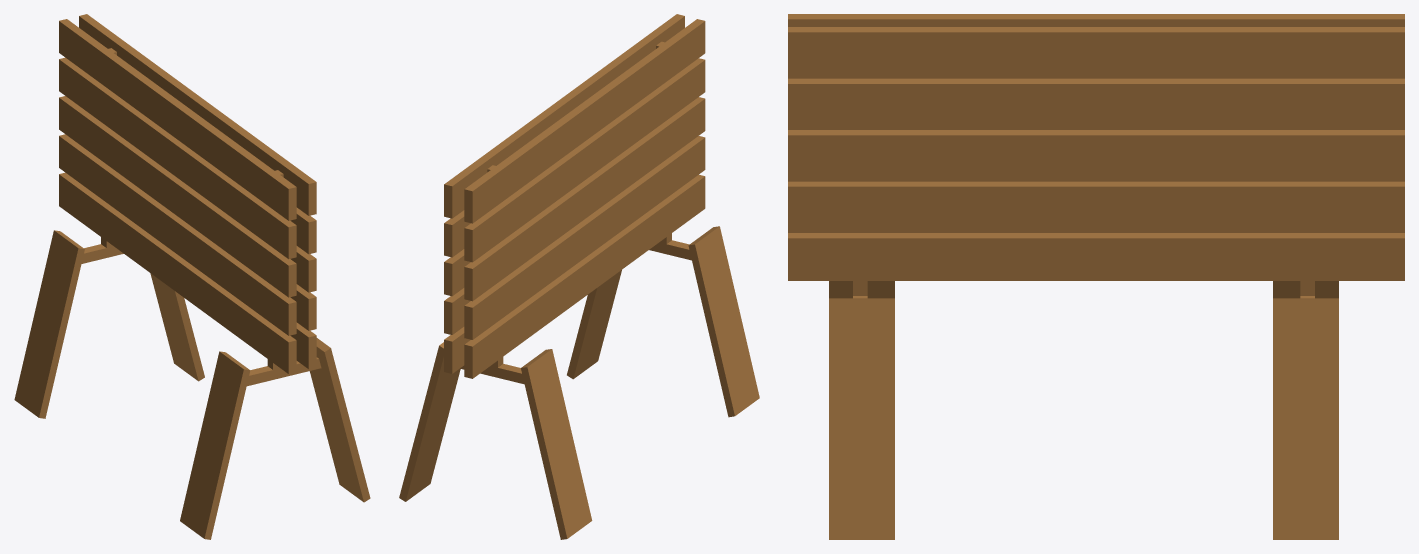
Rendered from BarracadeWood.fbx.
The picture shows the model from 3 angles, left to right: view 1: azimuth 30°, elevation 25°; view 2: azimuth 150°, elevation 25°; view 3: azimuth 270°, elevation 25°; orthographic projection. The views are drawn at different scales.
Parts seen in each view (by area): view 1: BarracadeWood; view 2: BarracadeWood; view 3: BarracadeWood.
Part boxes in pixels (x1,y1,x2,y2): BarracadeWood: [14, 14, 370, 539]; BarracadeWood: [399, 14, 759, 539]; BarracadeWood: [788, 14, 1404, 539].
Bounding box in the file's own units: 164 × 326 × 392.
